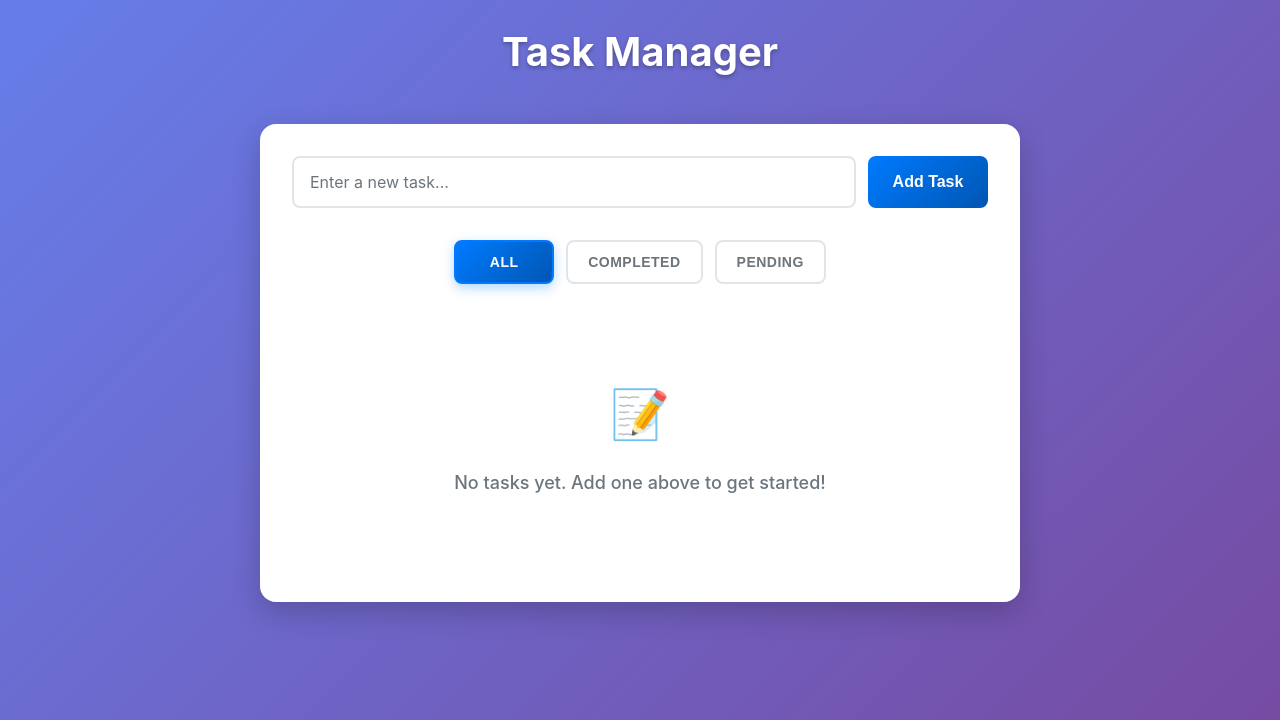
App Integration Tests › Complete App Functionality › complete task CRUD workflow
Add first task
In the field with placeholder "Enter a new task...": (574, 182) [292,156,856,208], type "First task"
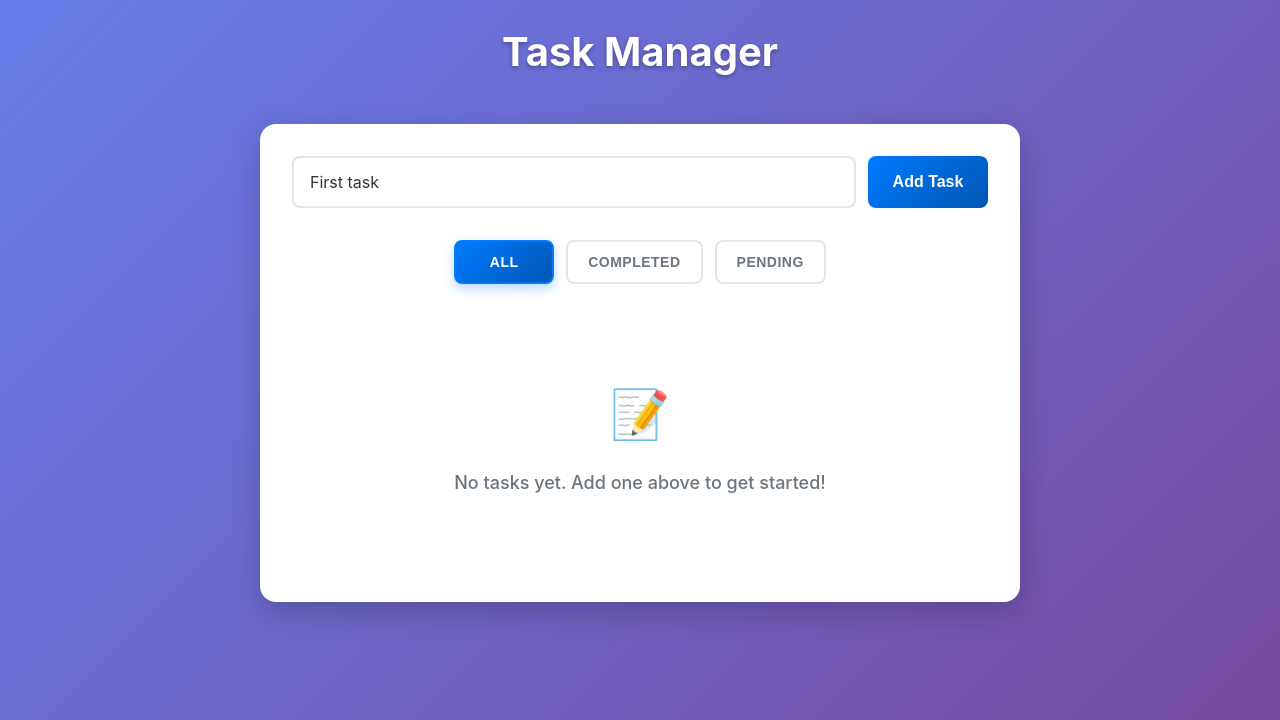
Click the button "Add Task": (928, 182) [868,156,988,208]
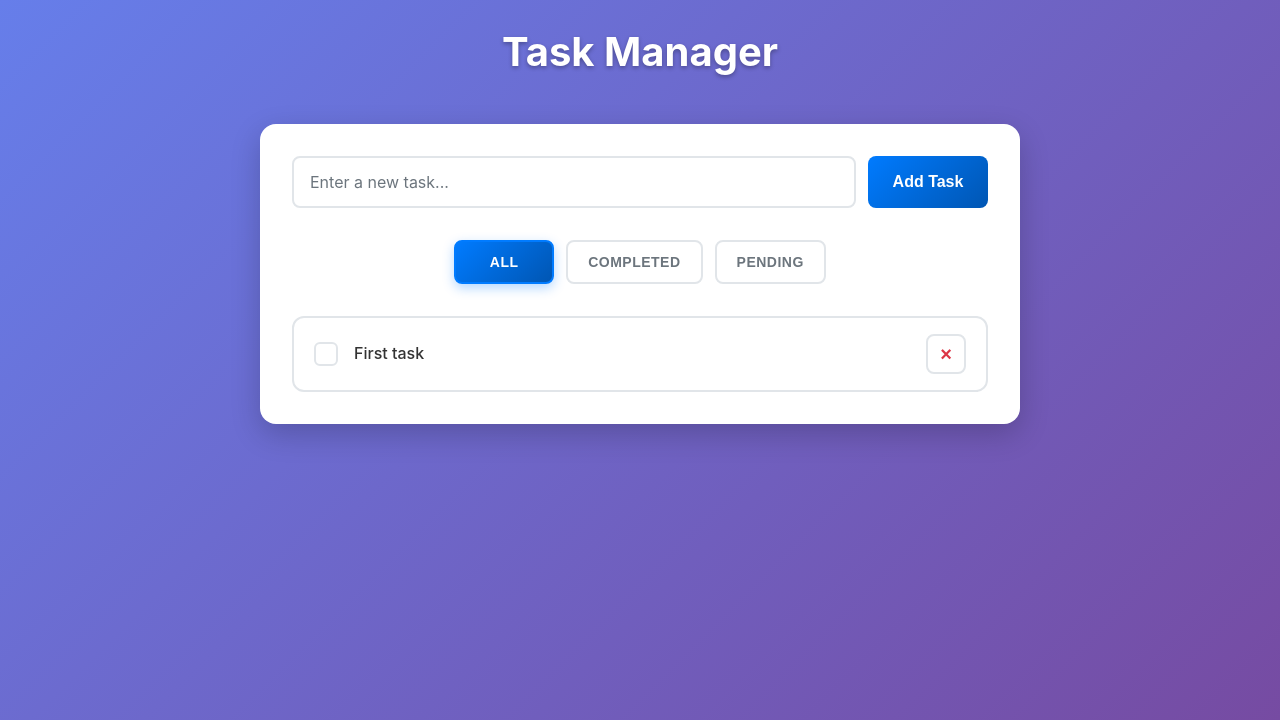
Check: the text "First task" is shown, box [354,341,424,367]
Check: the checkbox is shown, box [314,342,338,366]
Check: the button named "delete task" is shown, box [926,334,966,374]
Add second task
In the field with placeholder "Enter a new task...": (574, 182) [292,156,856,208], type "Second task"
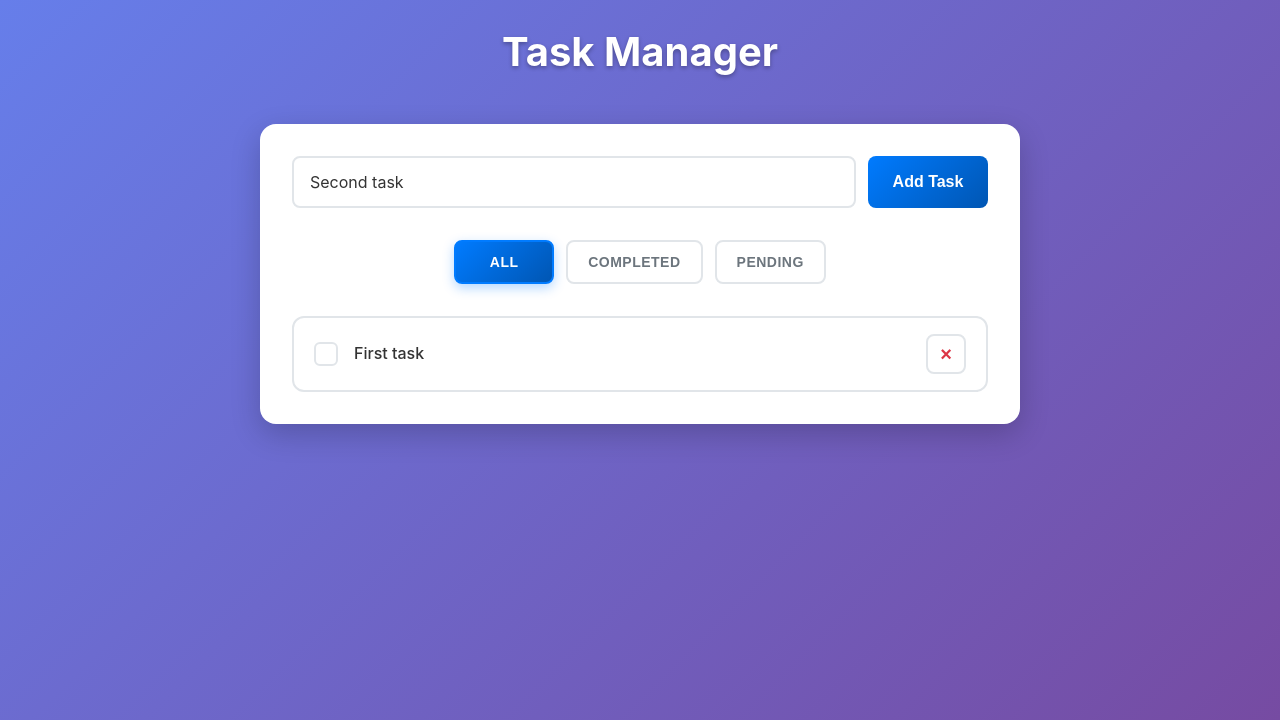
Click the button "Add Task": (928, 182) [868,156,988,208]
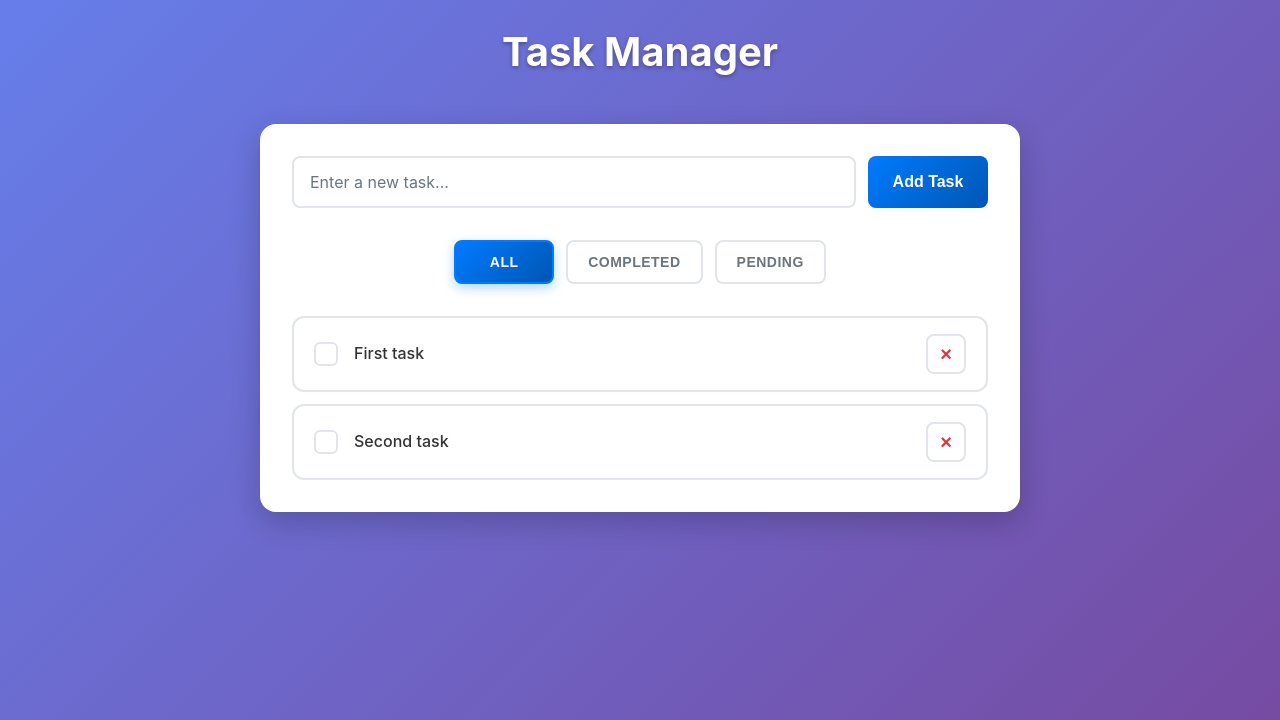
Check: the text "First task" is shown, box [354,341,424,367]
Check: the text "Second task" is shown, box [354,429,449,455]
Toggle completion of first task
Click the checkbox named "Mark \"First task\" as complete": (326, 354) [314,342,338,366]
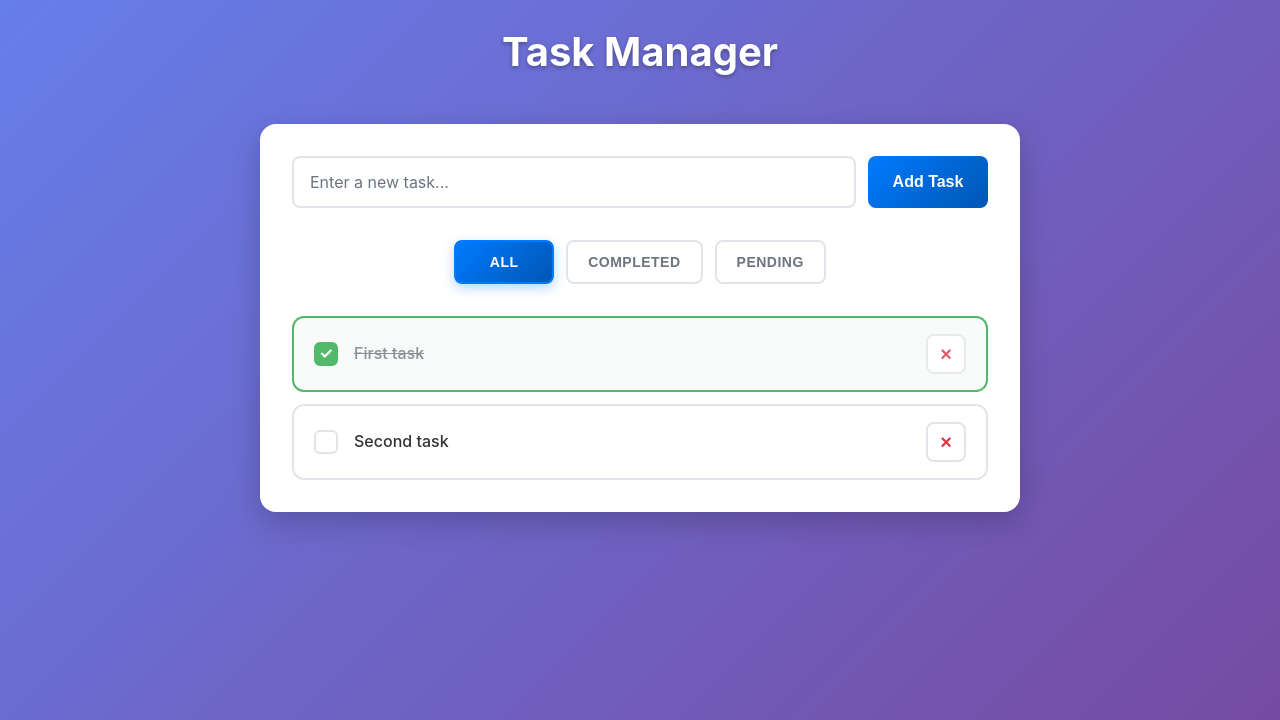
Check: the checkbox named "Mark \"First task\" as incomplete" is checked, box [314,342,338,366]
Delete second task
Click the button named "delete task": (946, 442) [926,422,966,462]
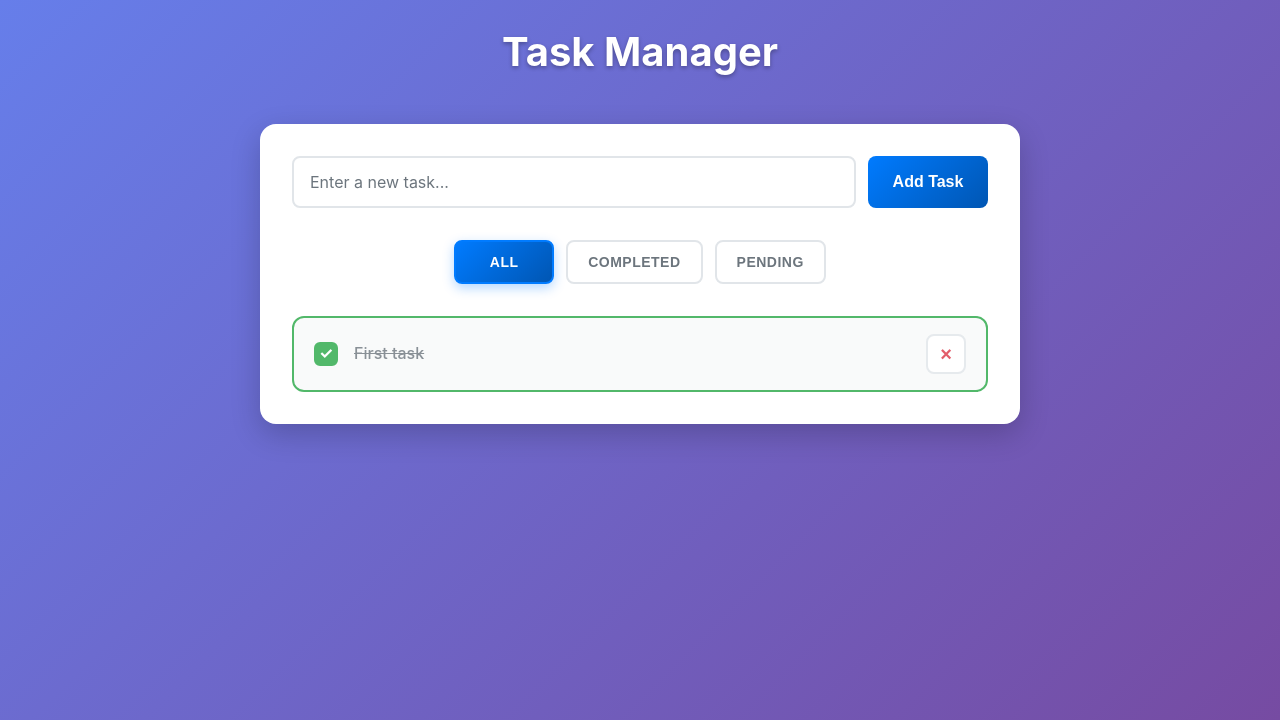
Check: the text "First task" is shown, box [354,341,424,367]
Check: the text "Second task" is gone
